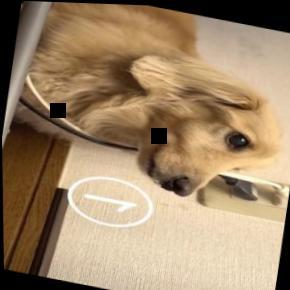nasal_discharge: (147, 171, 177, 193)
